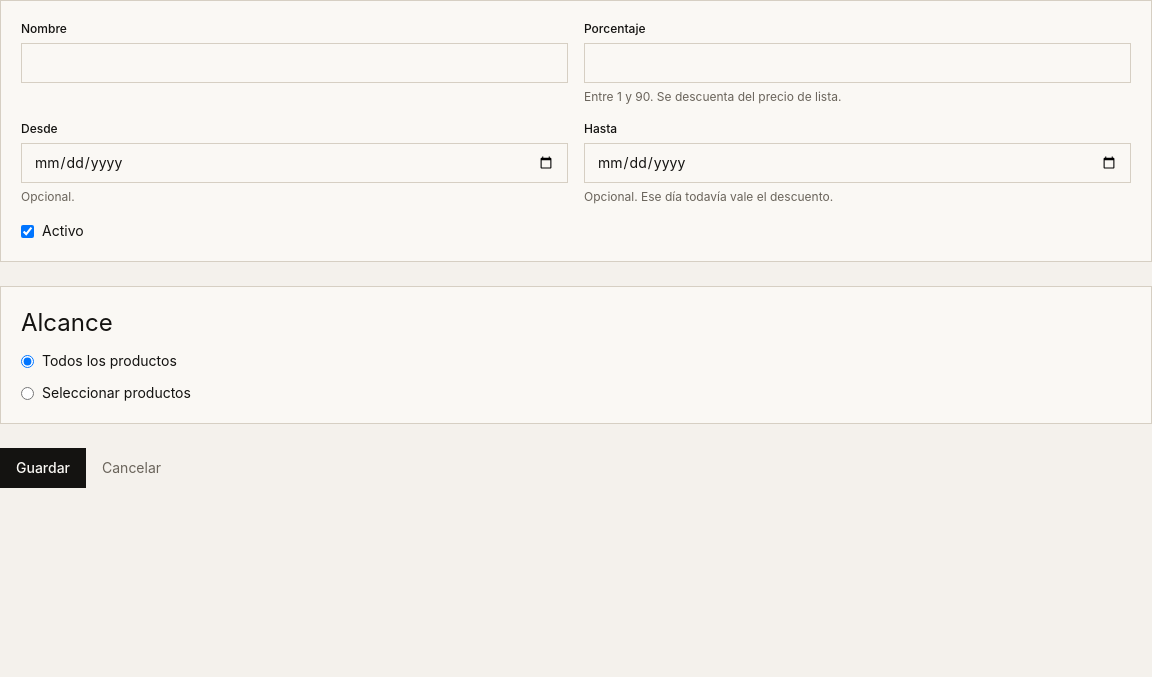
Test: DiscountForm › explains when no product matches the filters
This screenshot has width=1152, height=677.
Click the radio button labelled "Seleccionar productos": [28, 393] box left=21, top=386, right=34, bottom=400
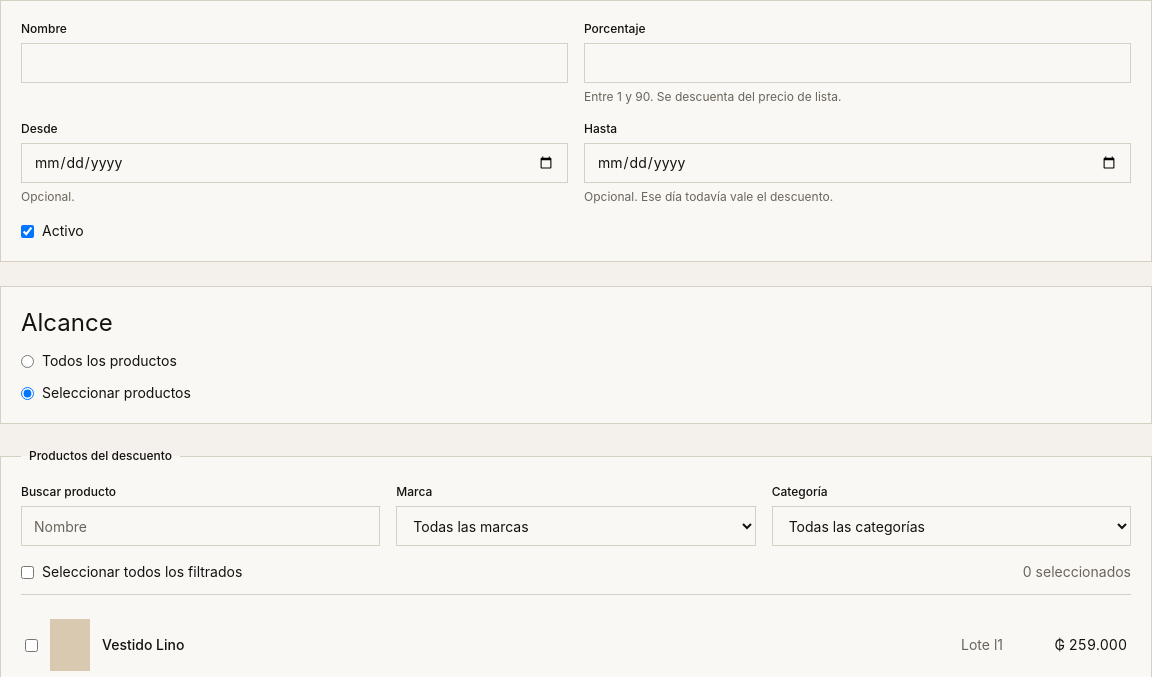
In the search field labelled "Buscar producto": [201, 526] box left=21, top=506, right=380, bottom=546, type "zzz"
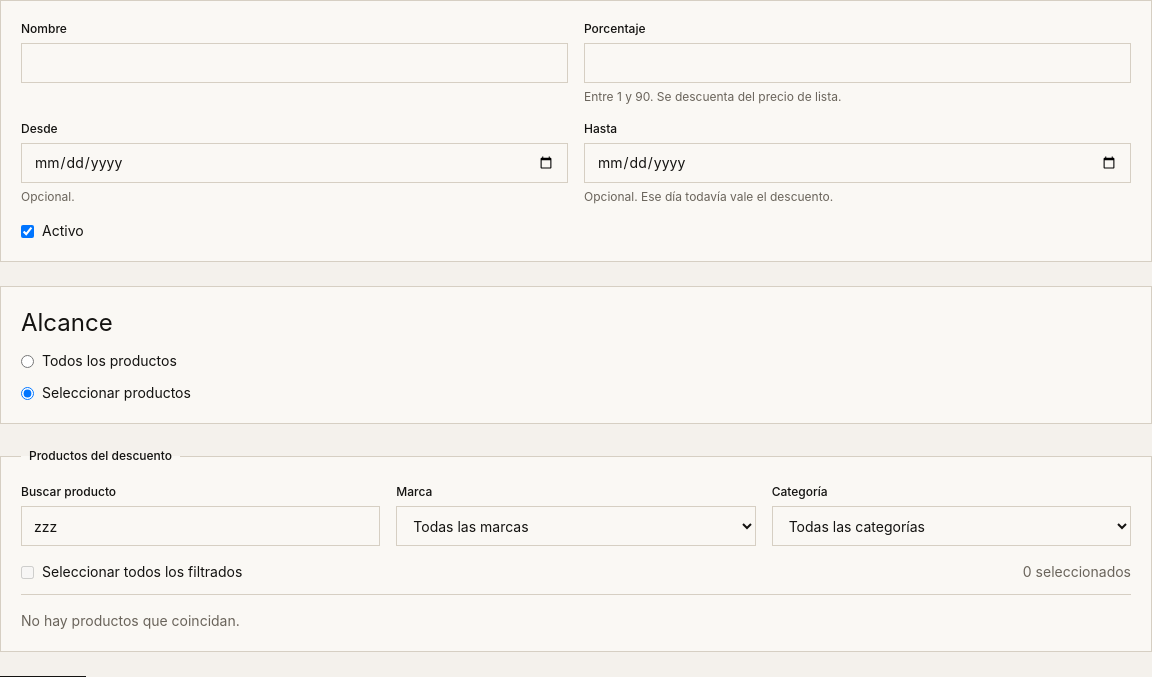
Now the text "No hay productos que coincidan." is shown, box left=21, top=612, right=240, bottom=629
